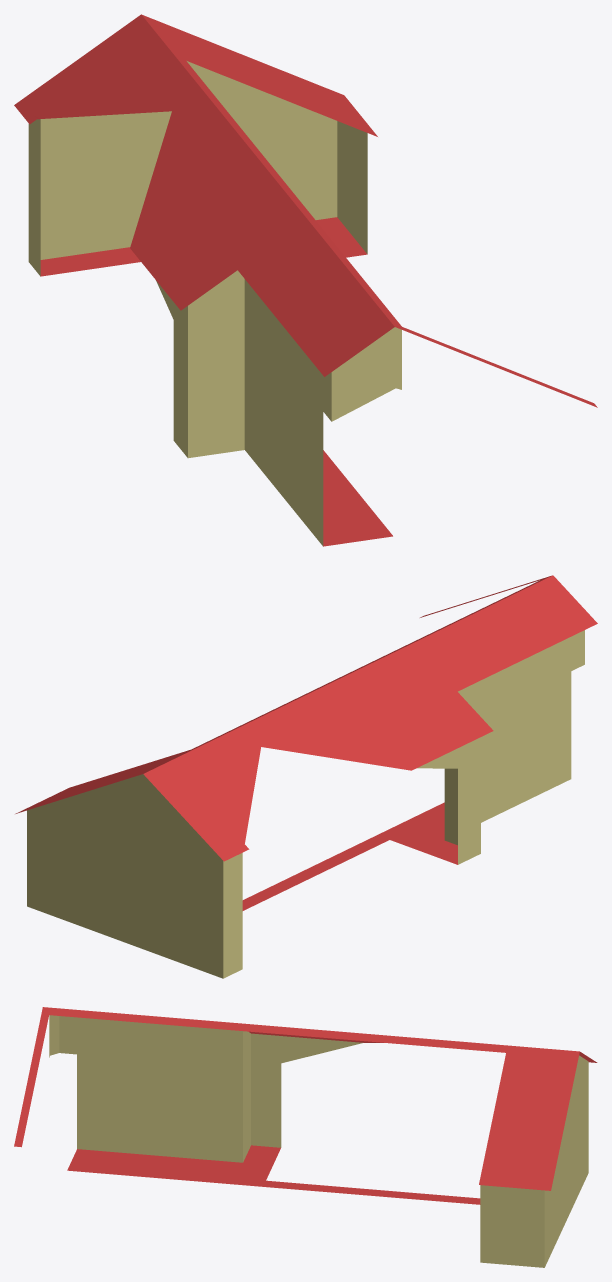
The picture shows the model from 3 angles, top to bottom: view 1: azimuth 30°, elevation 25°; view 2: azimuth 150°, elevation 25°; view 3: azimuth 270°, elevation 25°; orthographic projection. The views are drawn at different scales.
Size of the model in its own units: 19.25 by 36.39 by 10.88.
